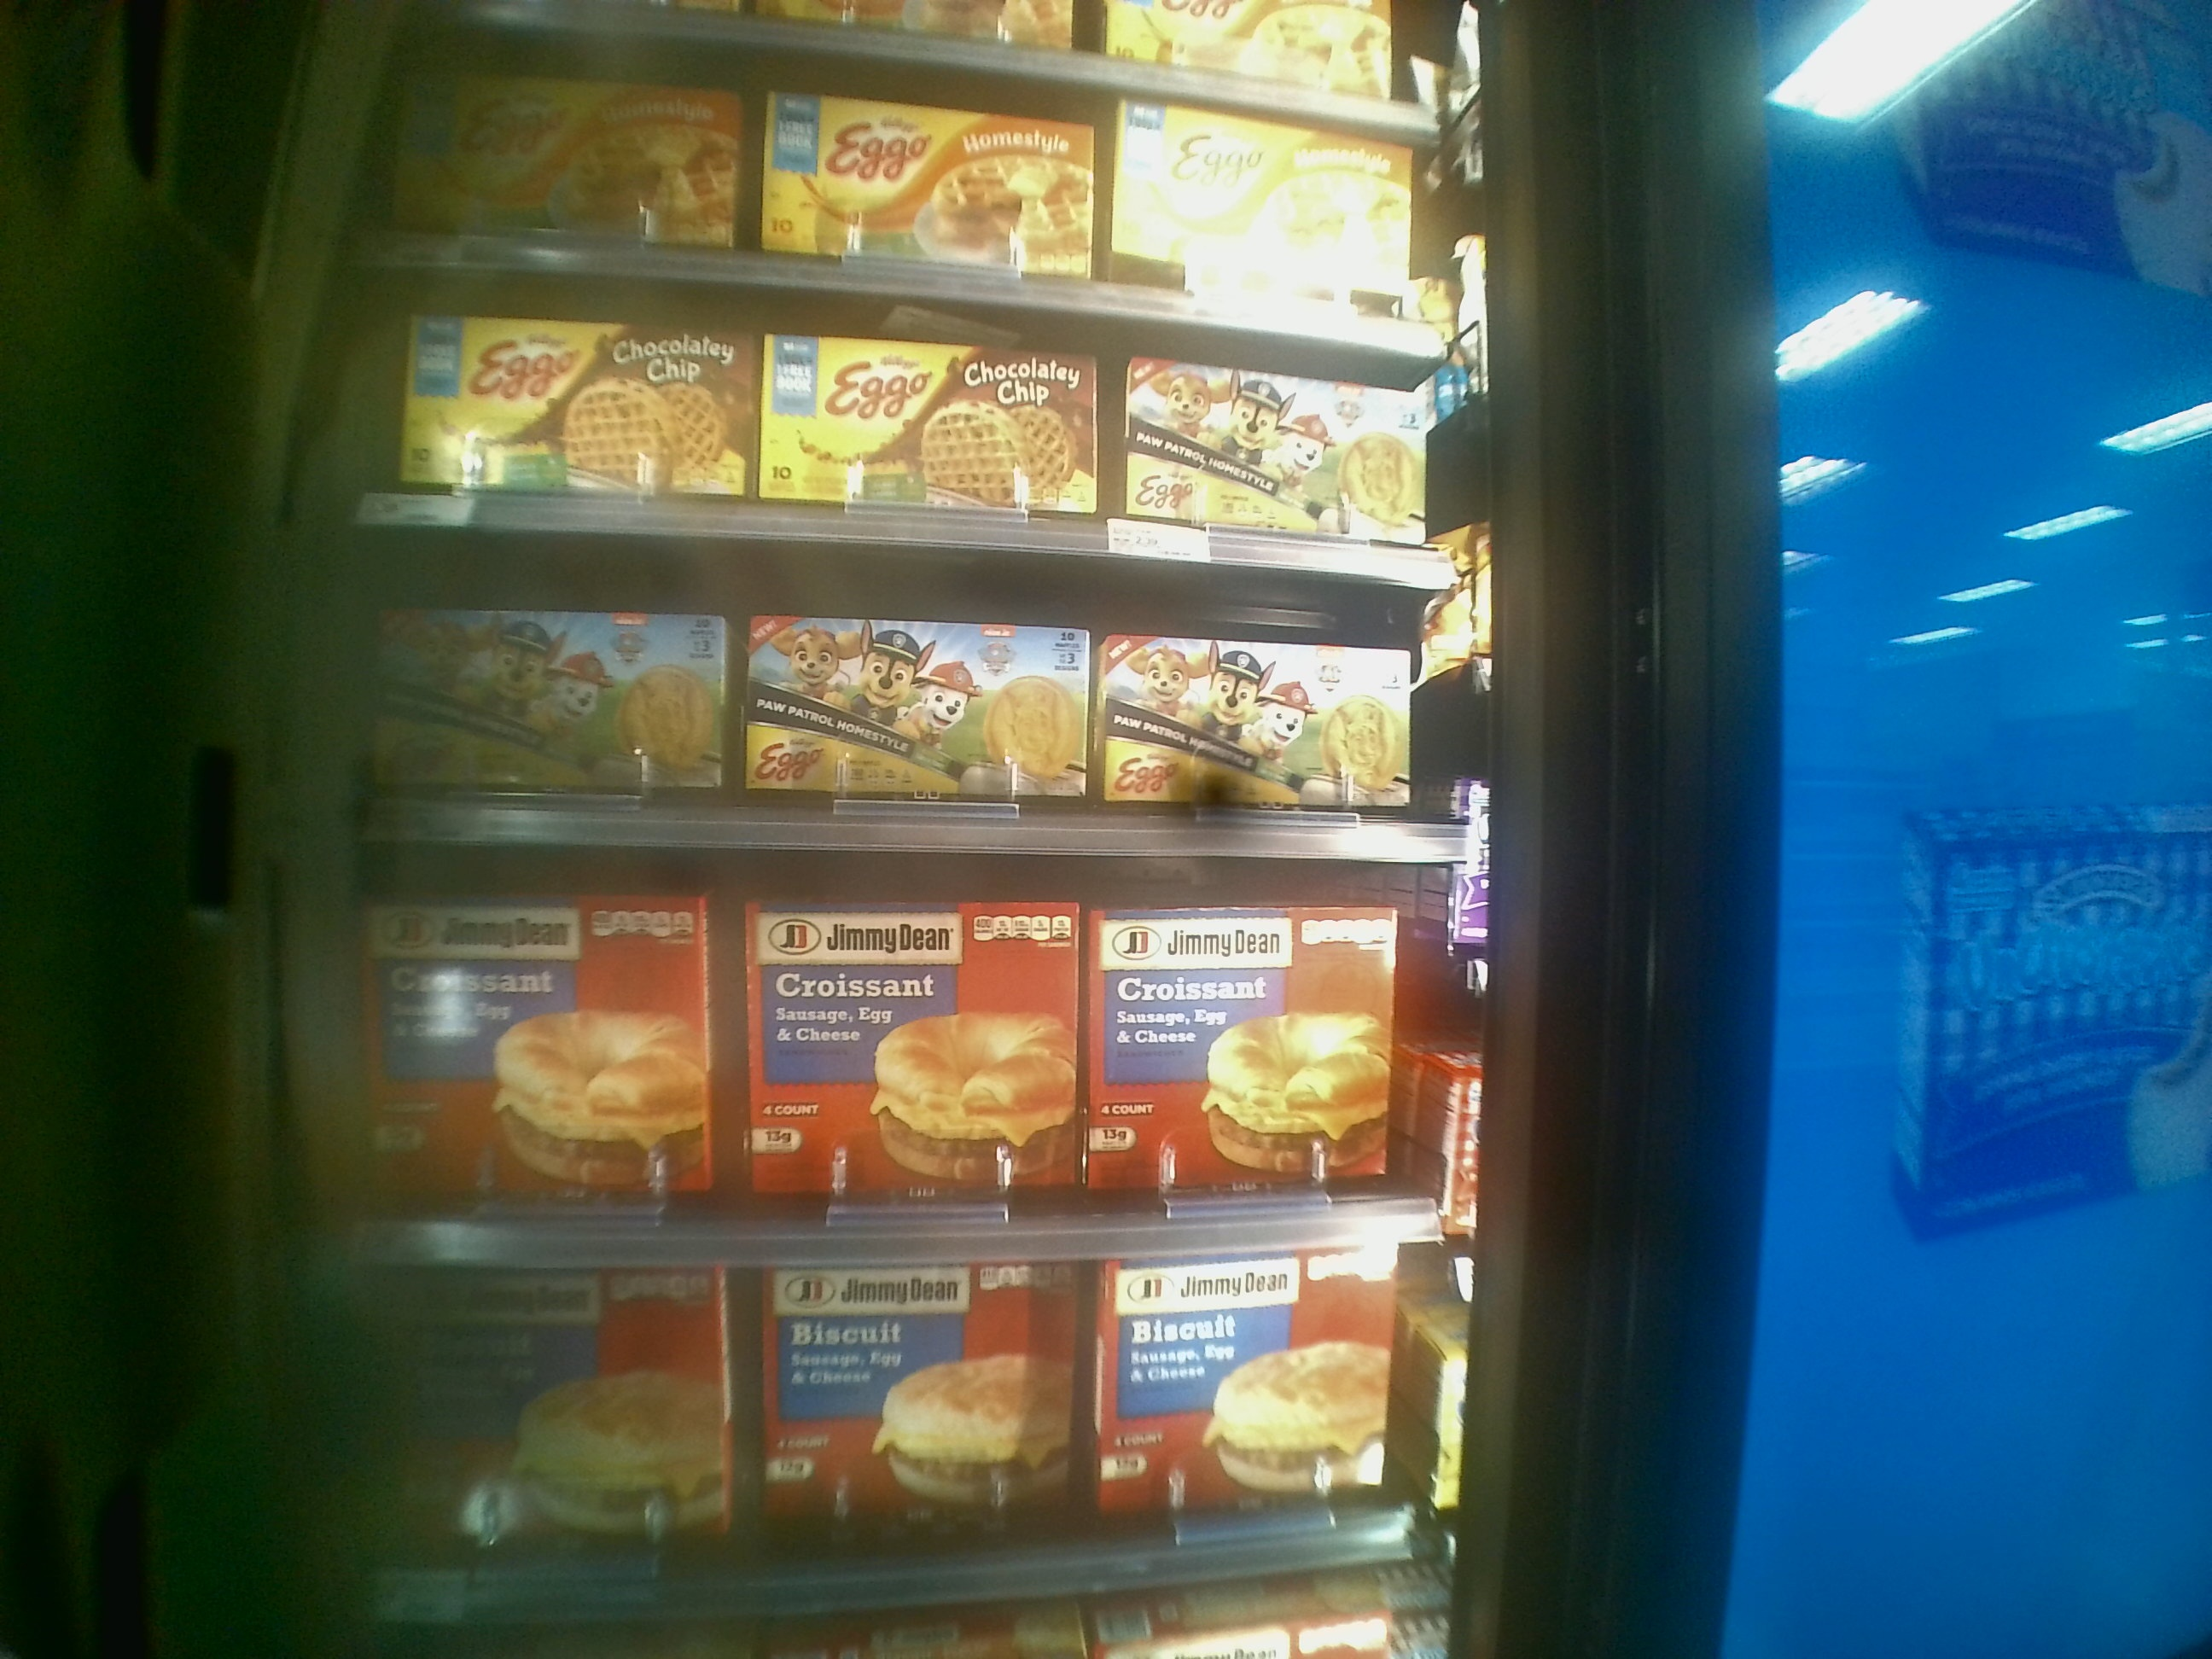shelf: (347, 838, 1465, 1270), (347, 1234, 1453, 1619)
